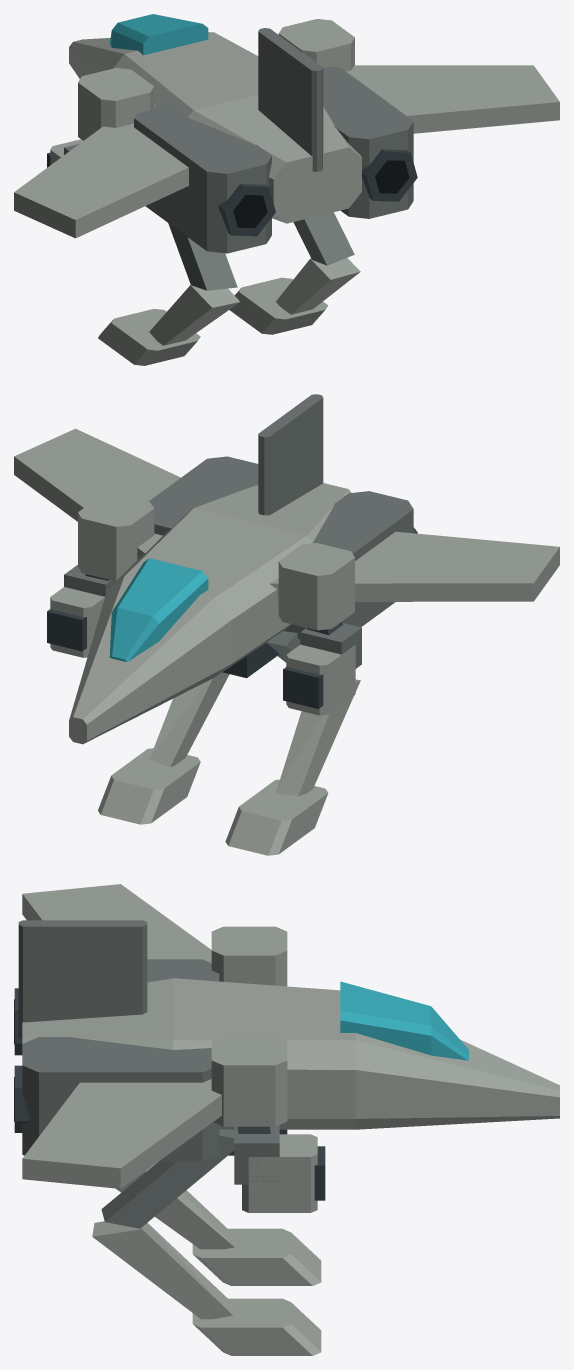
The model's file is fallback-airmek-medium.glb.
3 renders of one model, top to bottom at view 1: azimuth 30°, elevation 25°; view 2: azimuth 150°, elevation 25°; view 3: azimuth 270°, elevation 25°, orthographic. The views are drawn at different scales.
Visible parts, largest first — view 1: LT, CT, wing-1, wing1, RT, LA, LL-foot, RL-foot, LL-shin, HD, RA, RL-shin (+2 smaller); view 2: LT, CT, wing-1, wing1, RT, HD, LA, RA, LL-foot, RL-foot, LL-shin, RL-shin (+8 smaller); view 3: RT, CT, wing1, RA, wing-1, HD, RL-shin, RL-foot, LL-foot, RA@forearm, LT, RL (+4 smaller).
Part boxes in pixels (box(x1,y1,x2,y2)): LT: box(83, 49, 289, 253); CT: box(69, 28, 345, 222); wing-1: box(14, 104, 188, 238); wing1: box(346, 65, 559, 133); RT: box(204, 32, 417, 218); LA: box(78, 68, 154, 140); LL-foot: box(98, 309, 200, 365); RL-foot: box(229, 277, 327, 334); LL-shin: box(149, 285, 239, 345); HD: box(109, 14, 208, 55); RA: box(278, 19, 354, 71); RL-shin: box(276, 258, 360, 314); LT: box(139, 488, 417, 712); CT: box(69, 394, 345, 744); wing-1: box(269, 531, 559, 601); wing1: box(14, 428, 180, 559); RT: box(83, 456, 258, 671); HD: box(109, 558, 208, 661); LA: box(278, 543, 354, 635); RA: box(78, 494, 154, 581); LL-foot: box(225, 779, 328, 855); RL-foot: box(98, 748, 200, 824); LL-shin: box(276, 679, 360, 796); RL-shin: box(149, 672, 229, 767); RT: box(14, 1024, 485, 1161); CT: box(18, 920, 559, 1124); wing1: box(22, 1079, 221, 1188); RA: box(211, 1036, 287, 1133); wing-1: box(22, 884, 211, 962); HD: box(340, 981, 468, 1060); RL-shin: box(92, 1221, 234, 1319); RL-foot: box(192, 1298, 321, 1355); LL-foot: box(192, 1228, 321, 1285); RA@forearm: box(242, 1134, 317, 1212); LT: box(14, 959, 340, 1055); RL: box(101, 1129, 234, 1228).
Bounding box in the file's own units: 92.4 × 58.05 × 74.98.
